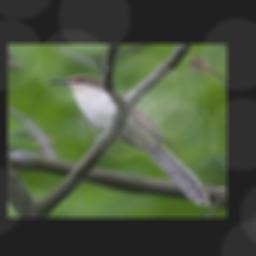Cuckoo: (47, 75, 211, 206)
